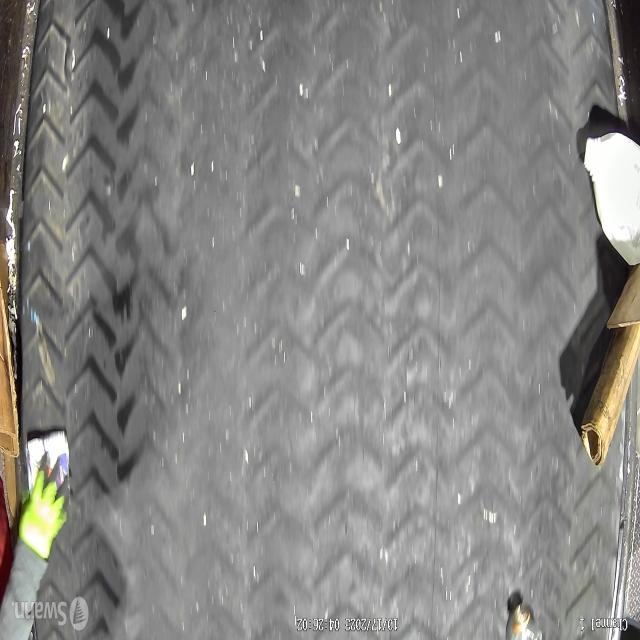milk_jug: (582, 132, 640, 266)
